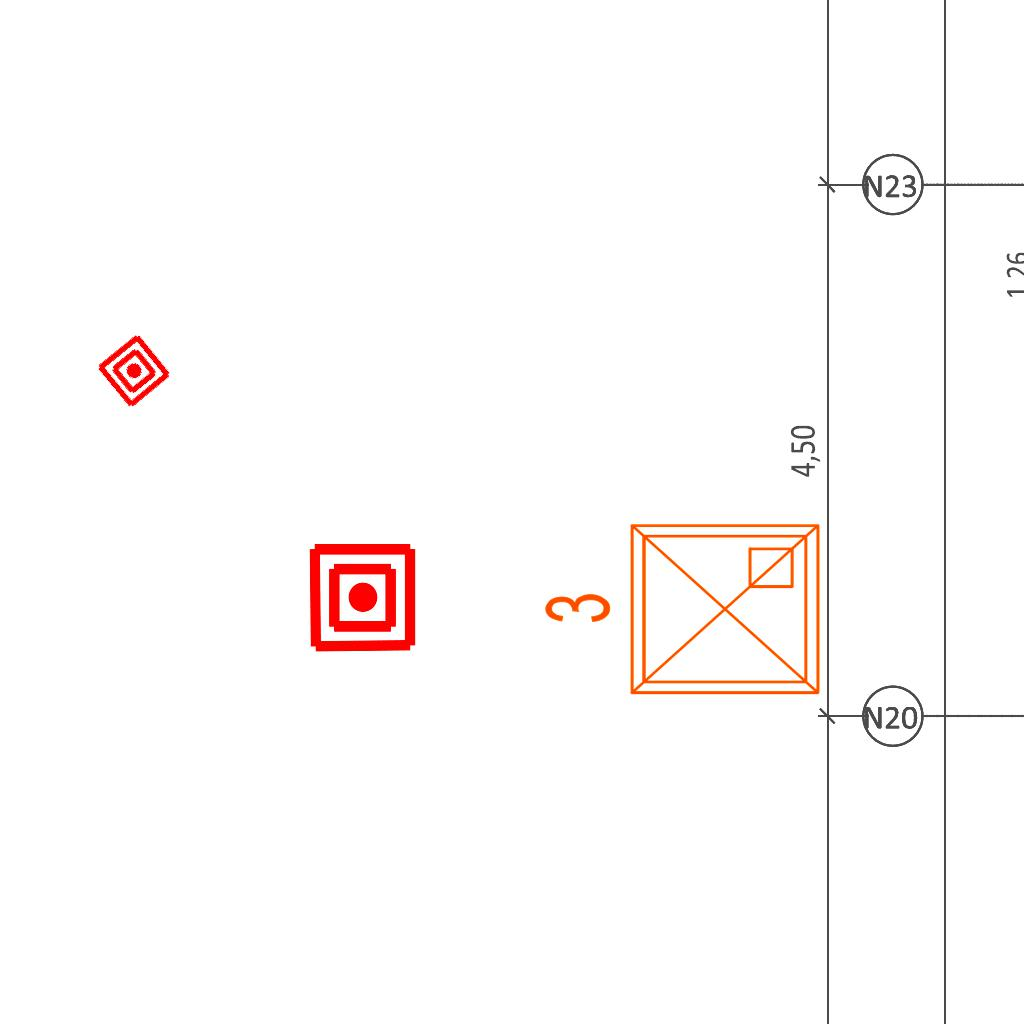Einbaudownlights_LED_Konferenzraeume: (534, 509, 834, 717)
NAM-Nichtautomatischer_Melder: (306, 541, 419, 654), (94, 331, 174, 411)
